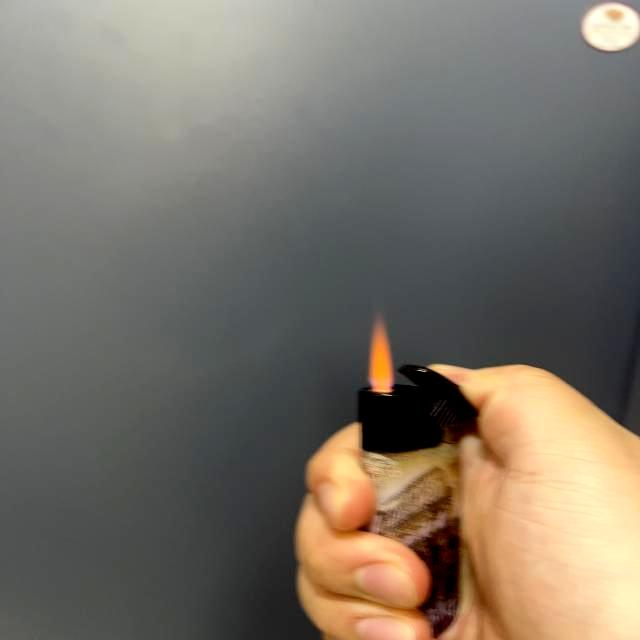fire: (367, 318, 398, 389)
